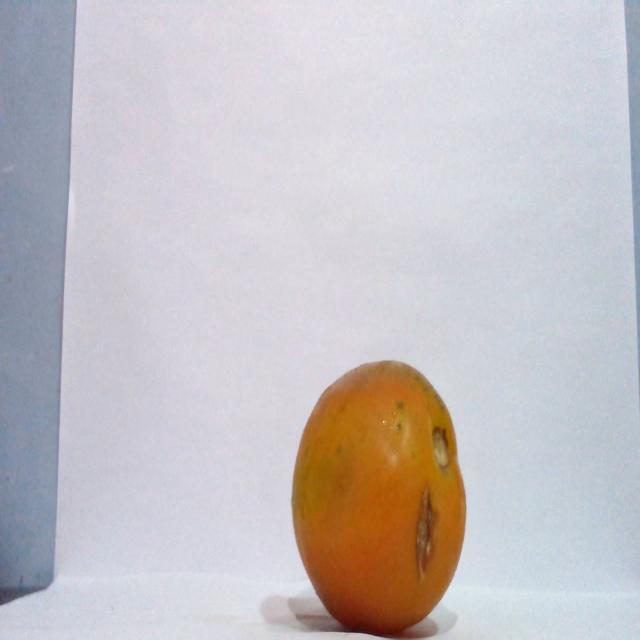Red: (289, 358, 467, 635)
